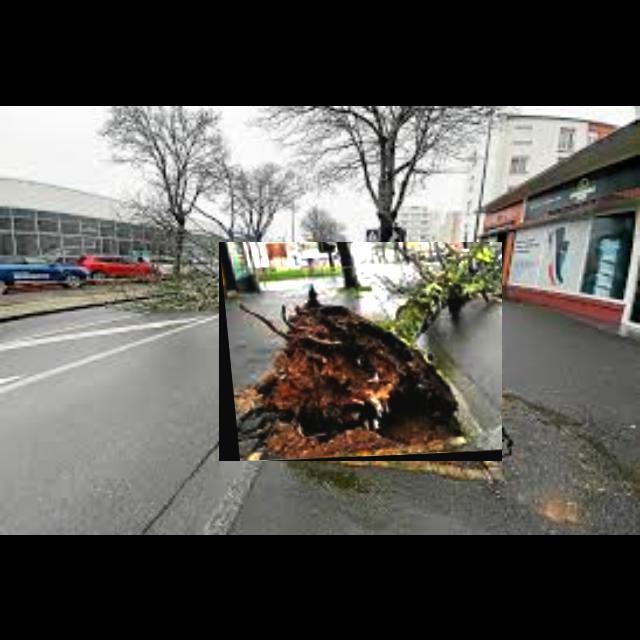fallen_tree: (219, 242, 503, 462)
